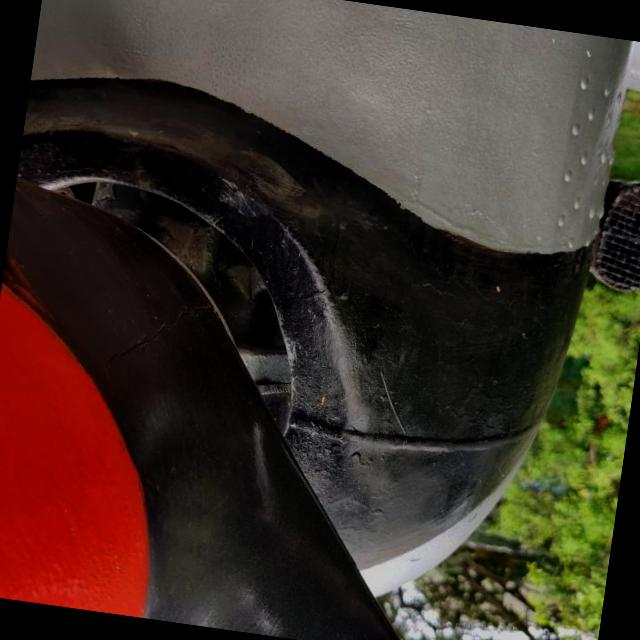crack: (92, 277, 222, 393)
